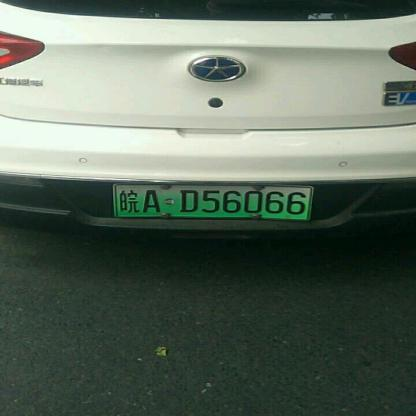lp: (115, 184, 312, 219)
